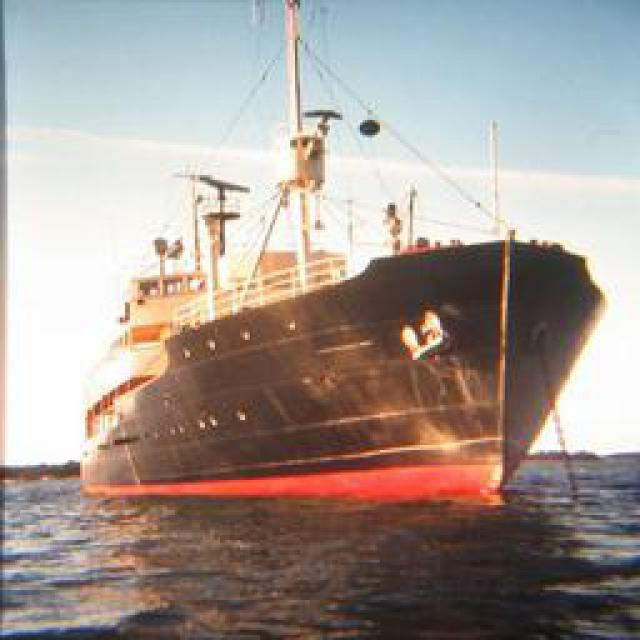Ship: (81, 205, 614, 500)
